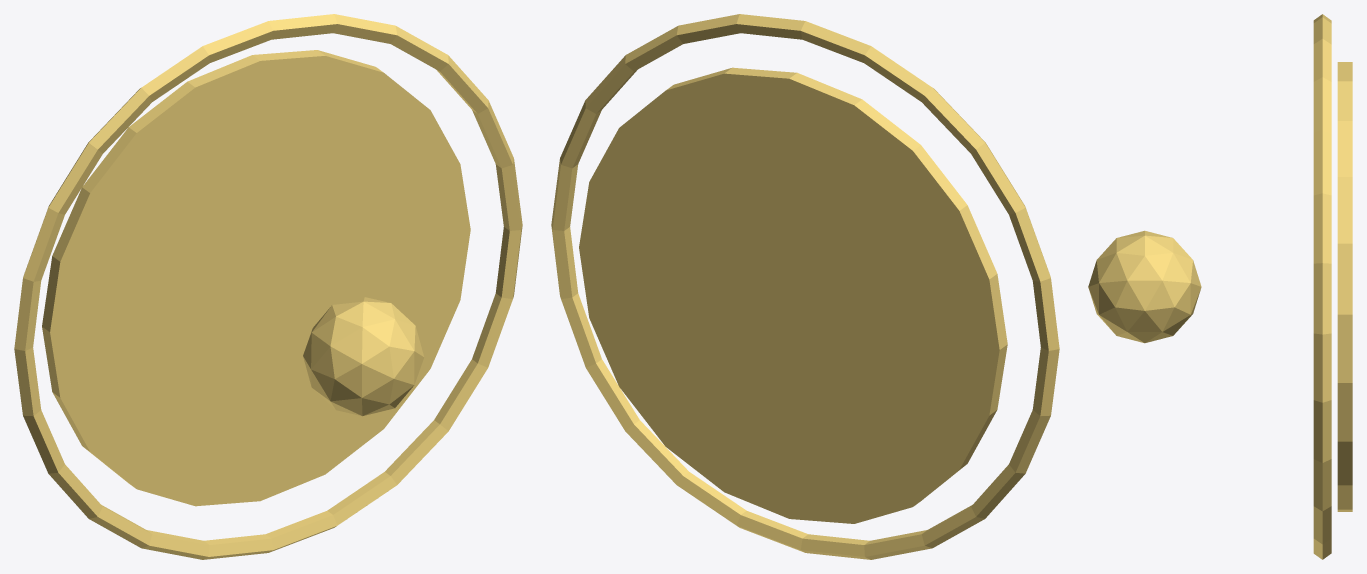
The model's file is companion_food_bowl.glb.
3 renders of one model, left to right at view 1: azimuth 30°, elevation 25°; view 2: azimuth 150°, elevation 25°; view 3: azimuth 270°, elevation 25°, orthographic. The views are drawn at different scales.
Parts seen in each view (by area): view 1: summon_disc, summon_ring, summon_core; view 2: summon_disc, summon_ring; view 3: summon_ring, summon_core, summon_disc.
Part boxes in pixels (left/top/right/bottom): summon_disc: left=42, top=50, right=470, bottom=506; summon_ring: left=14, top=14, right=522, bottom=559; summon_core: left=303, top=297, right=424, bottom=416; summon_disc: left=579, top=67, right=1007, bottom=523; summon_ring: left=551, top=14, right=1059, bottom=559; summon_ring: left=1313, top=14, right=1331, bottom=559; summon_core: left=1088, top=230, right=1201, bottom=343; summon_disc: left=1337, top=62, right=1352, bottom=511.
Size of the model in its own units: 1.45 by 1.45 by 0.7.
